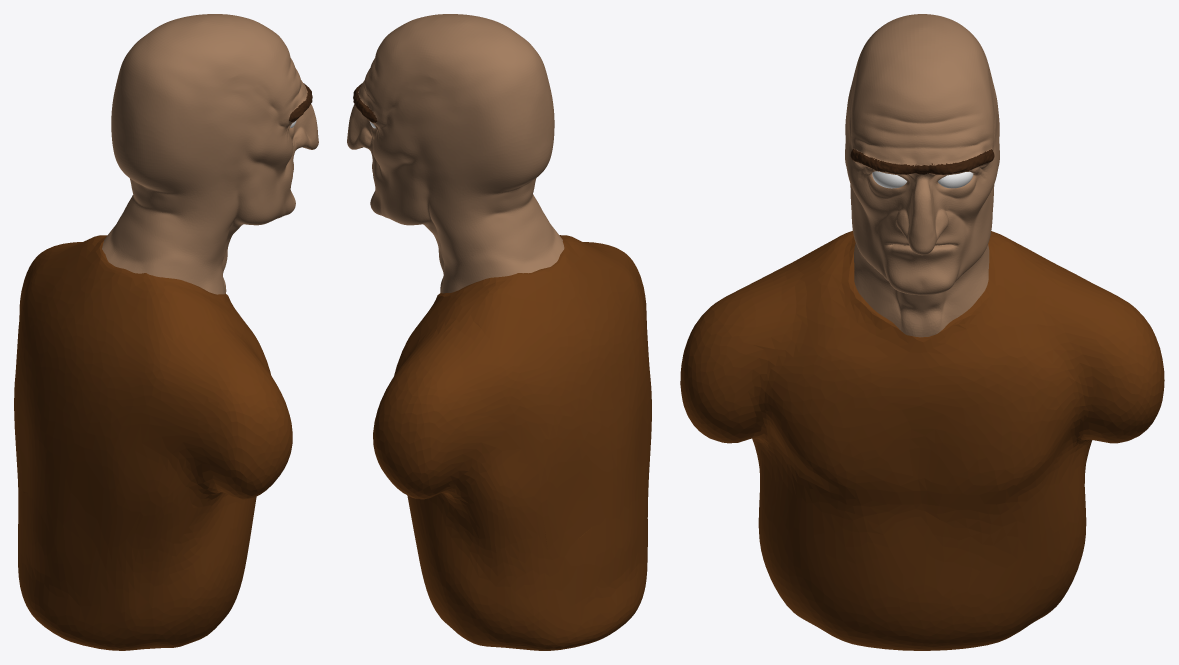
The model's file is villager.glb.
3 views of the same model, side by side, from view 1: azimuth 30°, elevation 25°; view 2: azimuth 150°, elevation 25°; view 3: azimuth 270°, elevation 25° (orthographic). The views are drawn at different scales.
Visible parts, largest first — view 1: Sphere.002, Quad Sphere; view 2: Sphere.002, Quad Sphere; view 3: Sphere.002, Quad Sphere.
Boxes of the visible parts, x1,y1,x2,y2 form: Sphere.002: [14, 235, 292, 650]; Quad Sphere: [102, 14, 318, 294]; Sphere.002: [373, 235, 651, 650]; Quad Sphere: [347, 14, 564, 293]; Sphere.002: [680, 230, 1164, 650]; Quad Sphere: [845, 14, 999, 337].
Bounding box in the file's own units: 8.6 × 17.26 × 11.81.
